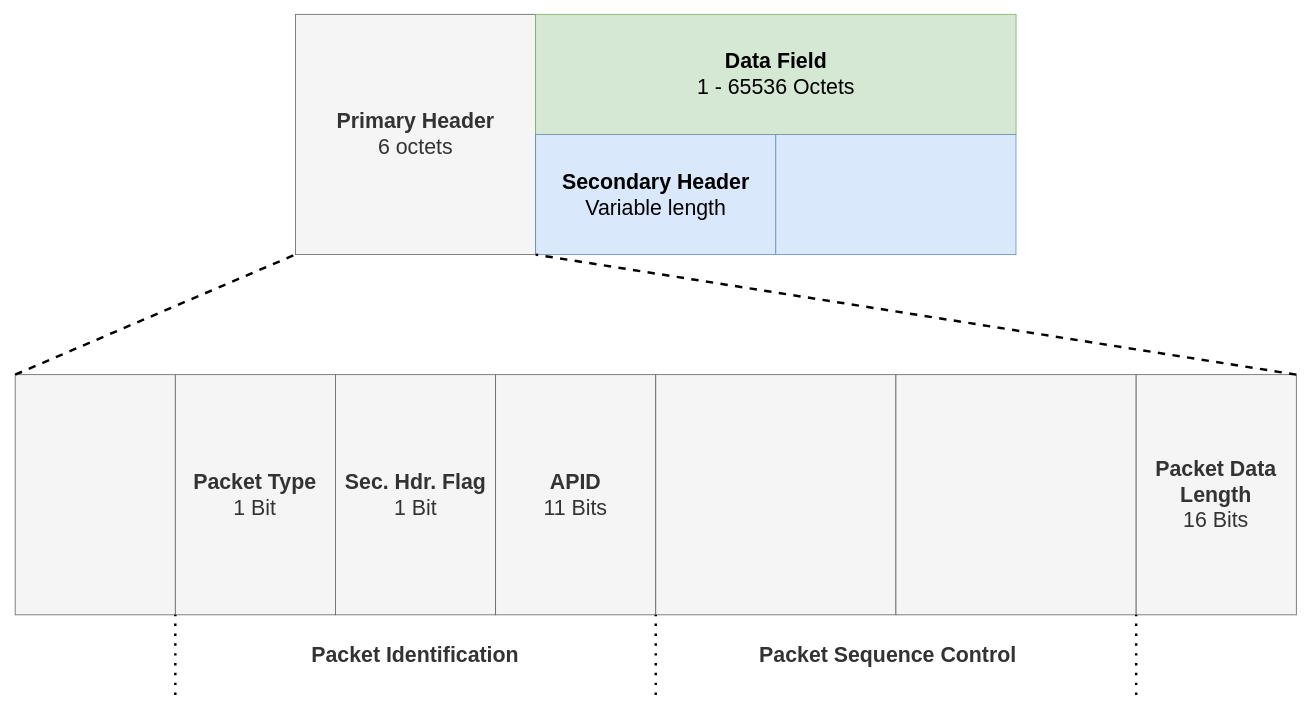
This 1313x711 diagram has some shape labels left out. The shapes that lost their labels are listed below. From the top down, each one's centre as x and y in pixels, then its label:
At point 895,194: "Data Field Variable length".
At point 94,494: "Packet Version 3 Bits".
At point 775,494: "Sequence Flag 2 Bits".
At point 1015,494: "Packet Sequence count or name 14 Bits".
